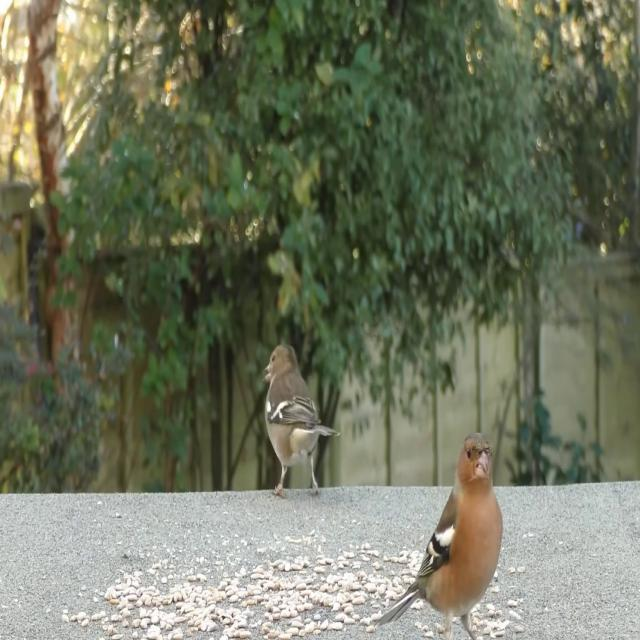beak: (475, 452, 492, 484), (264, 362, 276, 384)
bird: (369, 438, 502, 640), (256, 337, 341, 503)
